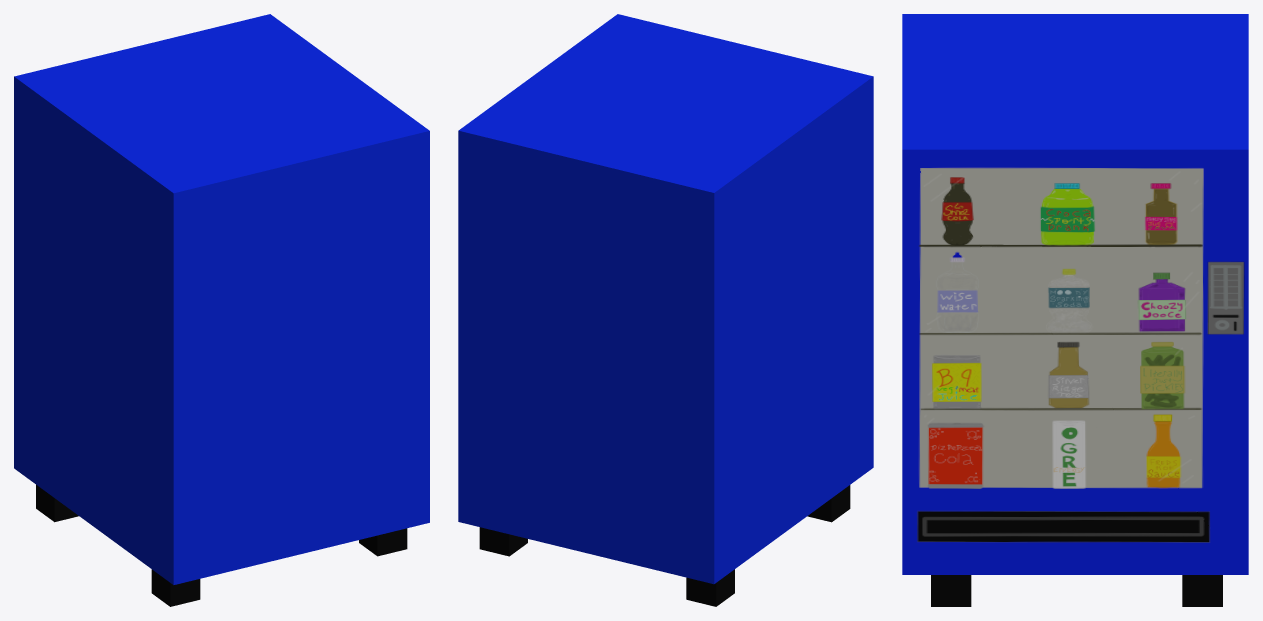
File: VendingMachine1.fbx
3 renders of one model, left to right at view 1: azimuth 30°, elevation 25°; view 2: azimuth 150°, elevation 25°; view 3: azimuth 270°, elevation 25°, orthographic. The views are drawn at different scales.
Parts seen in each view (by area): view 1: Cube; view 2: Cube; view 3: Cube.
Boxes of the visible parts, bbox=[...] form: Cube: bbox=[14, 14, 429, 606]; Cube: bbox=[458, 14, 873, 606]; Cube: bbox=[902, 14, 1248, 606].
Bounding box in the file's own units: 421 × 390 × 620.
3 materials, 1 textured.
